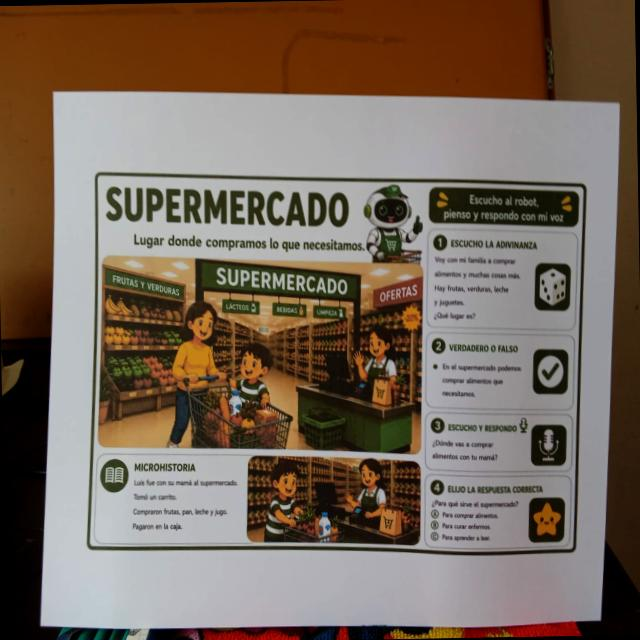supermercado: (75, 158, 596, 566)
